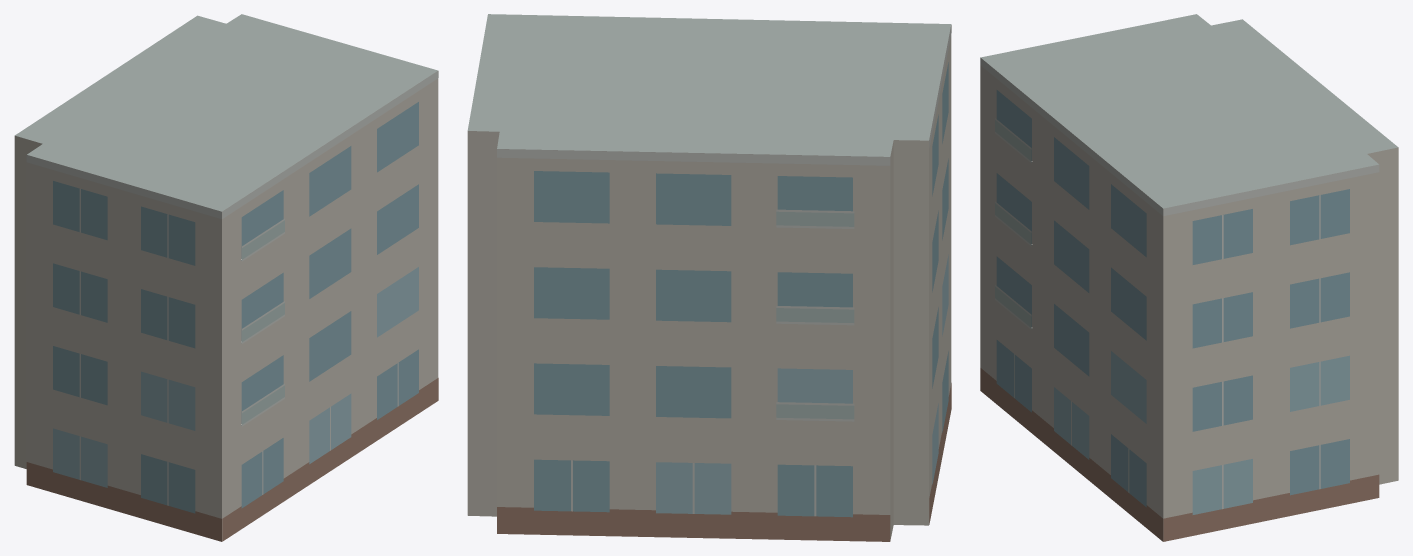
The model's file is survey-upis-32831070.glb.
3 renders of one model, left to right at view 1: azimuth 30°, elevation 25°; view 2: azimuth 150°, elevation 25°; view 3: azimuth 270°, elevation 25°, orthographic. The views are drawn at different scales.
Visible parts, largest first — view 1: survey-upis-32831070.tmp; view 2: survey-upis-32831070.tmp; view 3: survey-upis-32831070.tmp.
Part boxes in pixels (<box>): survey-upis-32831070.tmp: <box>14,14,438,541</box>; survey-upis-32831070.tmp: <box>467,14,951,541</box>; survey-upis-32831070.tmp: <box>980,14,1398,541</box>.
Bounding box in the file's own units: 13.28 × 10.6 × 12.06.
